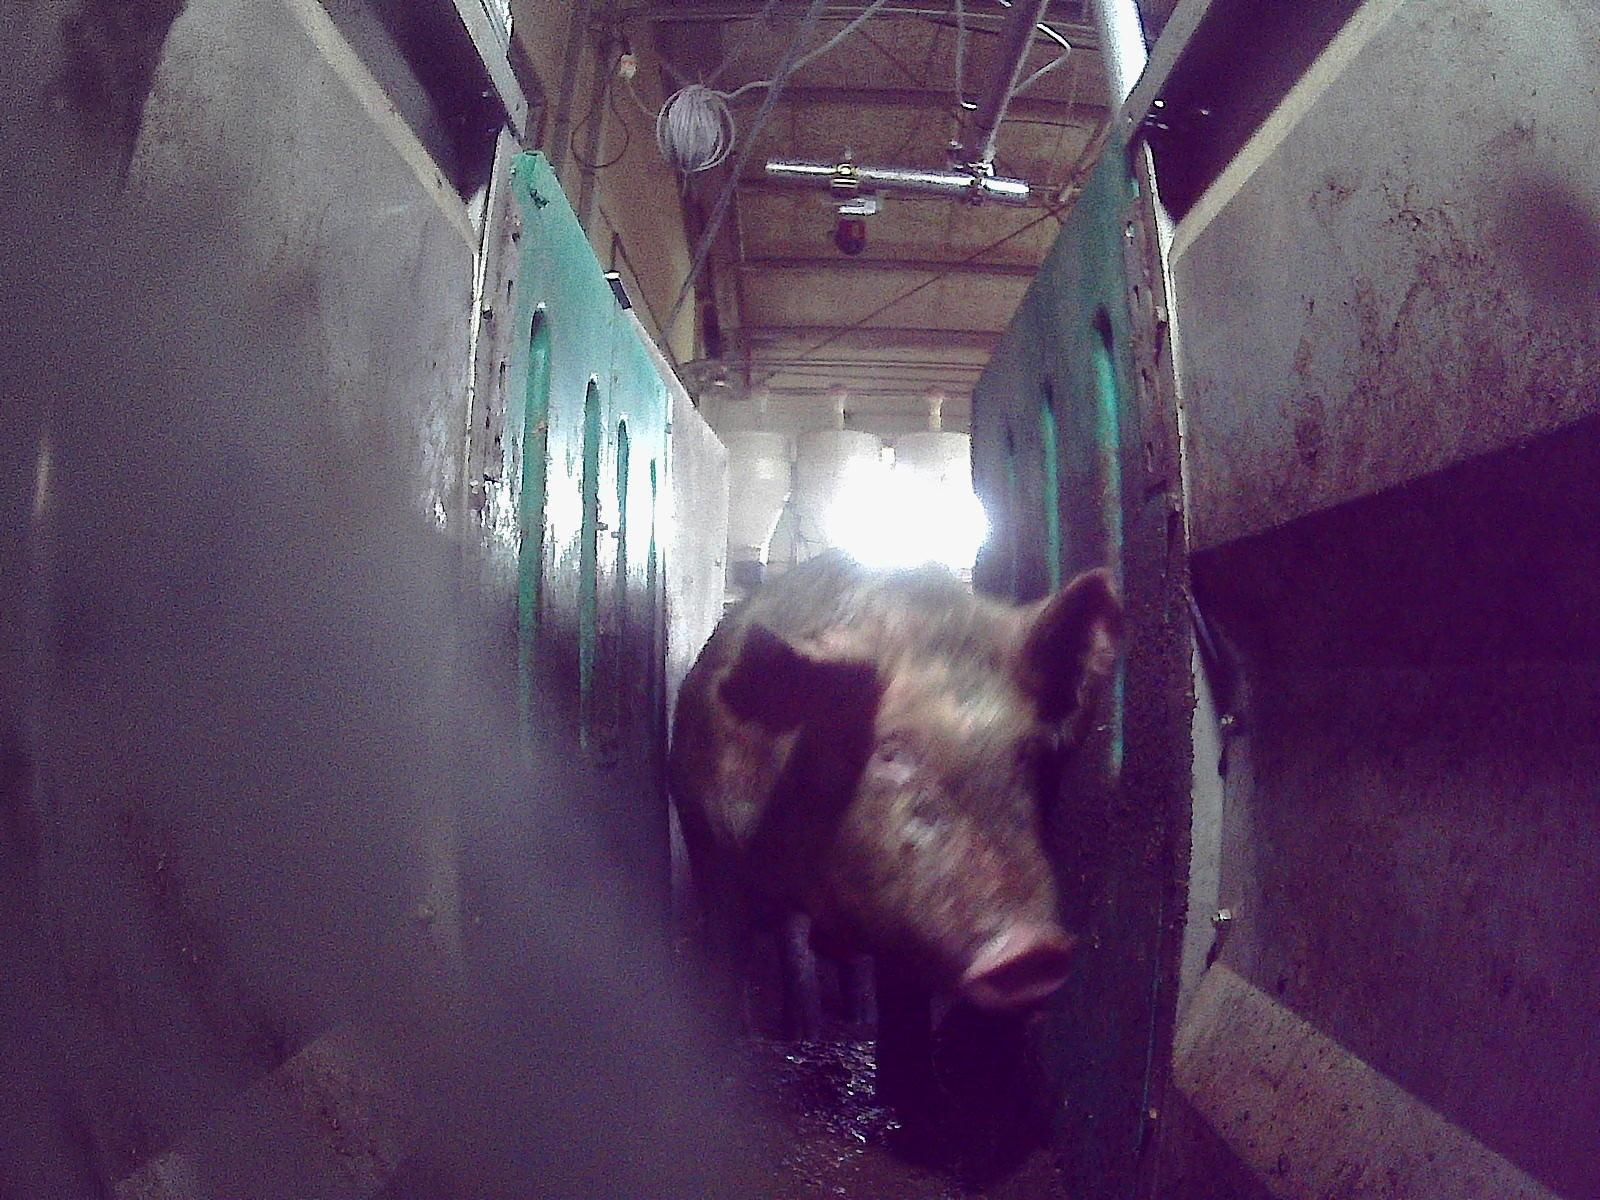Face: (784, 562, 1079, 1012)
